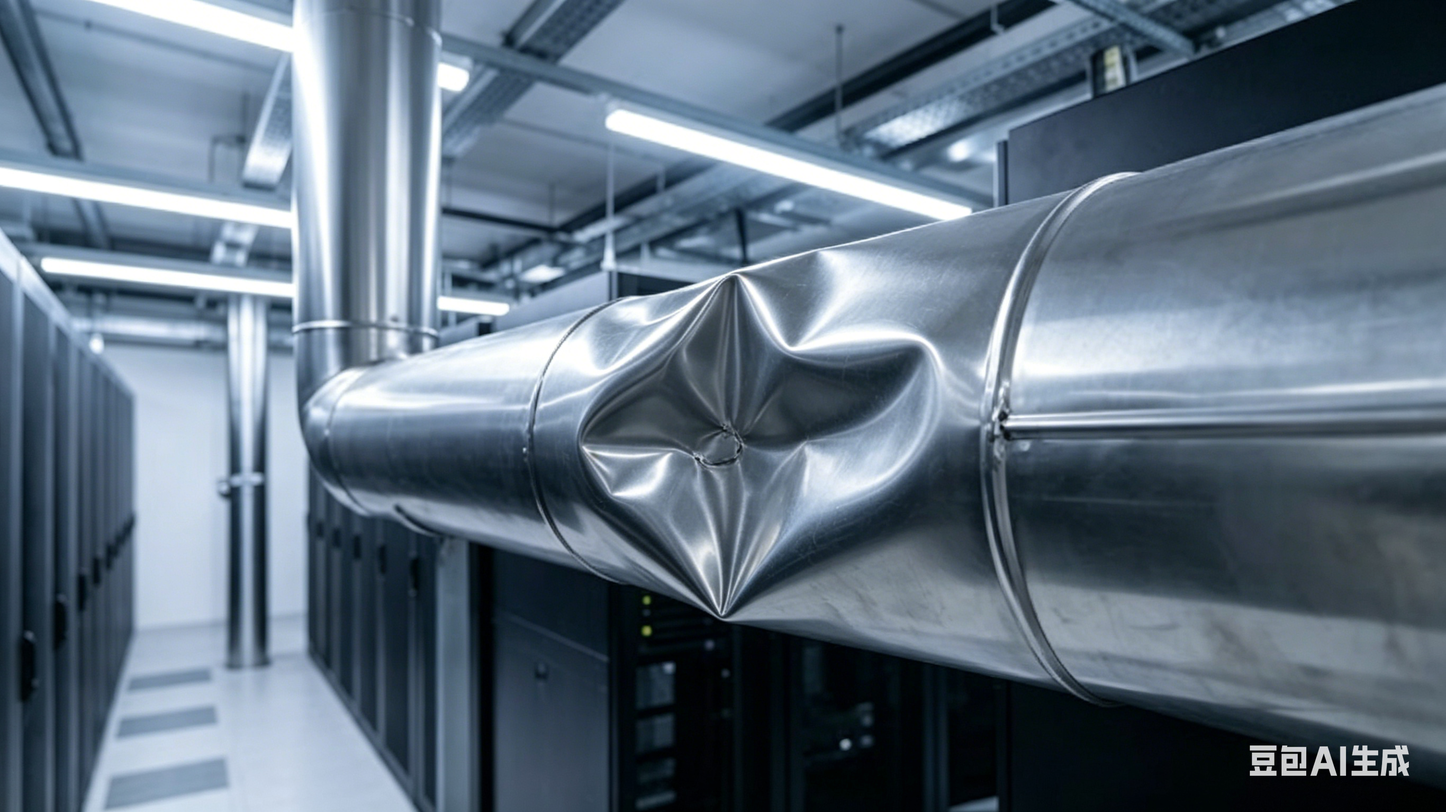Leakage: (555, 245, 943, 622)
